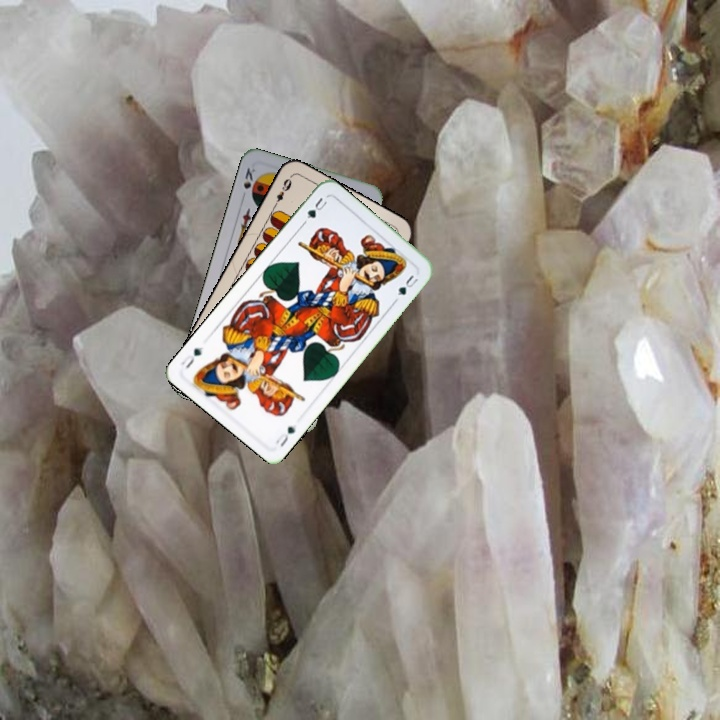E9: (269, 173, 294, 210)
GU: (299, 193, 330, 227), (272, 422, 298, 450)
SK: (238, 163, 258, 202)
